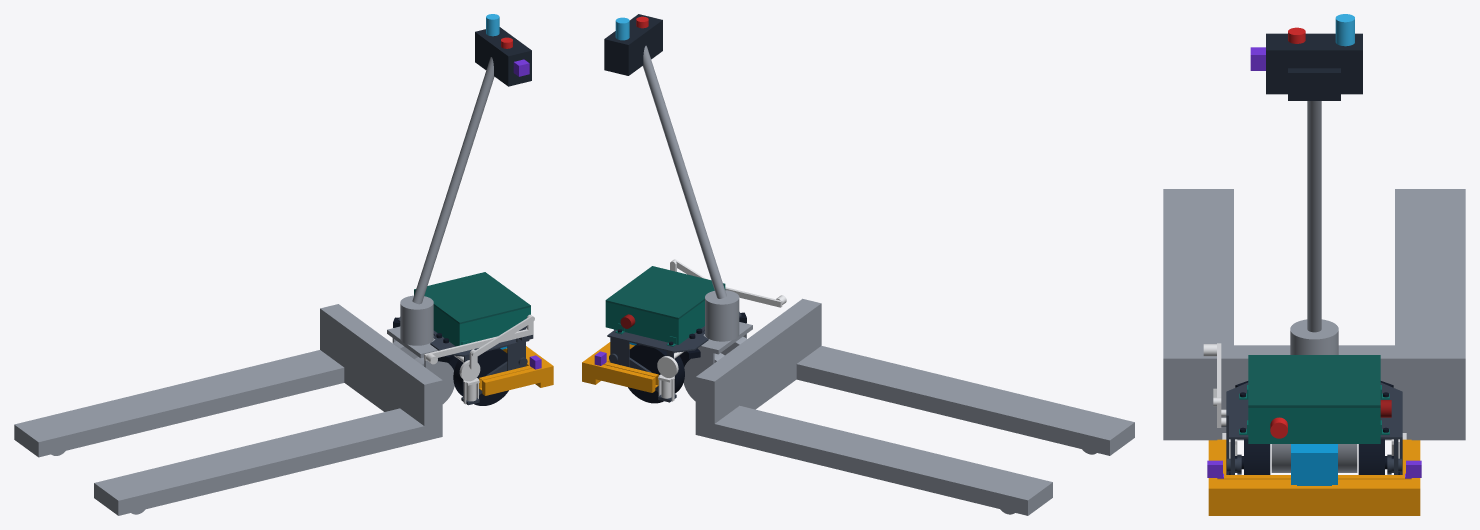
3 views of the same model, side by side, from view 1: azimuth 30°, elevation 25°; view 2: azimuth 150°, elevation 25°; view 3: azimuth 270°, elevation 25° (orthographic). The views are drawn at different scales.
Visible parts, largest first — view 1: Donor manual pallet jack (not in kit), Enclosure lid, Manual release: cam shaft, lever, springs, Tiller control head, Battery and electronics enclosure, Contact bumper (hoop and safety edge), Drive module: subframe, jaw, arms and pivot, Hub motors, 24 V, 200 mm, with brakes; view 2: Donor manual pallet jack (not in kit), Enclosure lid, Battery and electronics enclosure, Tiller control head, Contact bumper (hoop and safety edge), Drive module: subframe, jaw, arms and pivot, Manual release: cam shaft, lever, springs, Hub motors, 24 V, 200 mm, with brakes; view 3: Donor manual pallet jack (not in kit), Contact bumper (hoop and safety edge), Enclosure lid, Tiller control head, Battery and electronics enclosure, Drive module: subframe, jaw, arms and pivot, Safety laser scanner and bracket, Hub motors, 24 V, 200 mm, with brakes, Manual release: cam shaft, lever, springs, UWB anchors (3), Status beacon and buzzer, Emergency stops (2).
Part boxes in pixels (x1=…): Donor manual pallet jack (not in kit): x1=14, y1=57, x2=494, y2=515; Enclosure lid: x1=414, y1=272, x2=530, y2=324; Manual release: cam shaft, lever, springs: x1=424, y1=314, x2=534, y2=404; Tiller control head: x1=475, y1=27, x2=531, y2=86; Battery and electronics enclosure: x1=414, y1=291, x2=530, y2=346; Contact bumper (hoop and safety edge): x1=479, y1=346, x2=553, y2=395; Drive module: subframe, jaw, arms and pivot: x1=398, y1=317, x2=533, y2=405; Hub motors, 24 V, 200 mm, with brakes: x1=448, y1=348, x2=508, y2=405; Donor manual pallet jack (not in kit): x1=643, y1=45, x2=1134, y2=515; Enclosure lid: x1=605, y1=266, x2=725, y2=319; Battery and electronics enclosure: x1=605, y1=286, x2=725, y2=346; Tiller control head: x1=604, y1=14, x2=662, y2=75; Contact bumper (hoop and safety edge): x1=582, y1=342, x2=658, y2=392; Drive module: subframe, jaw, arms and pivot: x1=607, y1=312, x2=741, y2=402; Manual release: cam shaft, lever, springs: x1=657, y1=259, x2=786, y2=401; Hub motors, 24 V, 200 mm, with brakes: x1=628, y1=344, x2=690, y2=403; Donor manual pallet jack (not in kit): x1=1163, y1=101, x2=1465, y2=472; Contact bumper (hoop and safety edge): x1=1208, y1=439, x2=1420, y2=515; Enclosure lid: x1=1248, y1=355, x2=1380, y2=407; Tiller control head: x1=1266, y1=33, x2=1362, y2=100; Battery and electronics enclosure: x1=1239, y1=385, x2=1389, y2=443; Drive module: subframe, jaw, arms and pivot: x1=1221, y1=382, x2=1402, y2=474; Safety laser scanner and bracket: x1=1291, y1=444, x2=1337, y2=485; Hub motors, 24 V, 200 mm, with brakes: x1=1235, y1=439, x2=1393, y2=474; Manual release: cam shaft, lever, springs: x1=1203, y1=343, x2=1406, y2=458; UWB anchors (3): x1=1207, y1=47, x2=1421, y2=478; Status beacon and buzzer: x1=1335, y1=14, x2=1354, y2=46; Emergency stops (2): x1=1270, y1=27, x2=1305, y2=438.
Size of the model in its own units: 1.73 by 1.28 by 0.685.
